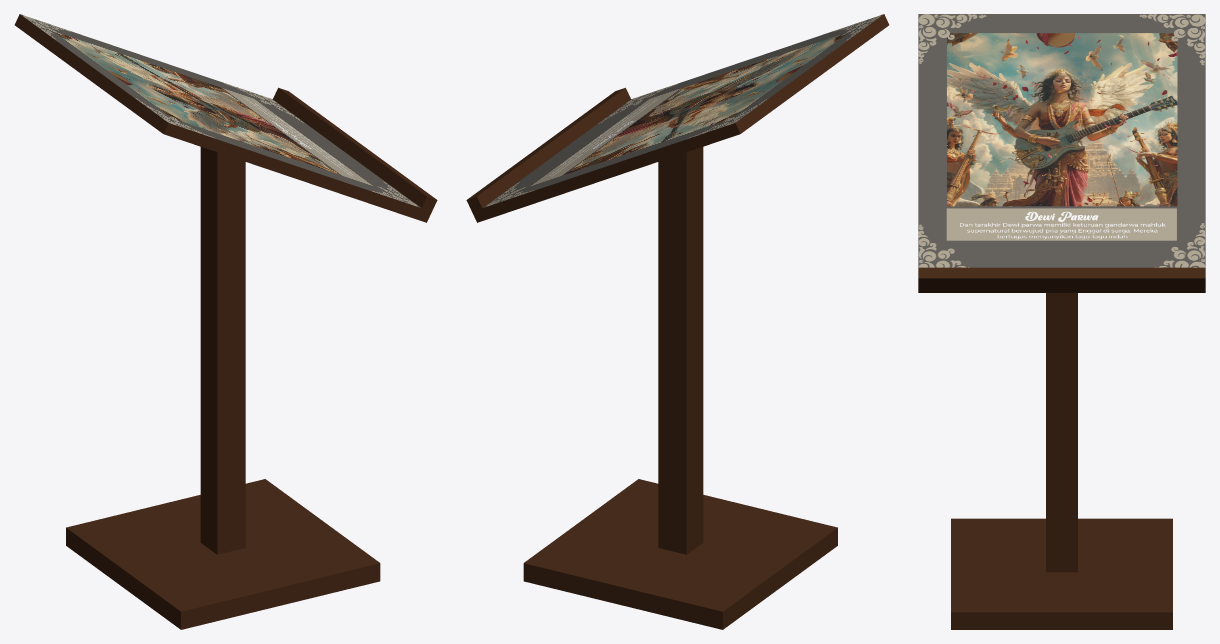
Rendered from Dewi Parwa.glb.
3 views of the same model, side by side, from view 1: azimuth 30°, elevation 25°; view 2: azimuth 150°, elevation 25°; view 3: azimuth 270°, elevation 25° (orthographic). The views are drawn at different scales.
Parts seen in each view (by area): view 1: Cube.001, Cube.002, Cube; view 2: Cube.001, Cube.002, Cube; view 3: Cube.002, Cube.001, Cube.
Part boxes in pixels (bbox=[...]): Cube.001: bbox=[66, 479, 380, 629]; Cube.002: bbox=[14, 14, 437, 222]; Cube: bbox=[200, 147, 245, 554]; Cube.001: bbox=[523, 479, 837, 629]; Cube.002: bbox=[466, 14, 889, 222]; Cube: bbox=[658, 147, 703, 554]; Cube.002: bbox=[918, 14, 1205, 292]; Cube.001: bbox=[951, 518, 1172, 629]; Cube: bbox=[1046, 293, 1077, 572].
Bounding box in the file's own units: 0.6504 × 1.19 × 0.6117.
2 materials, 1 textured.
